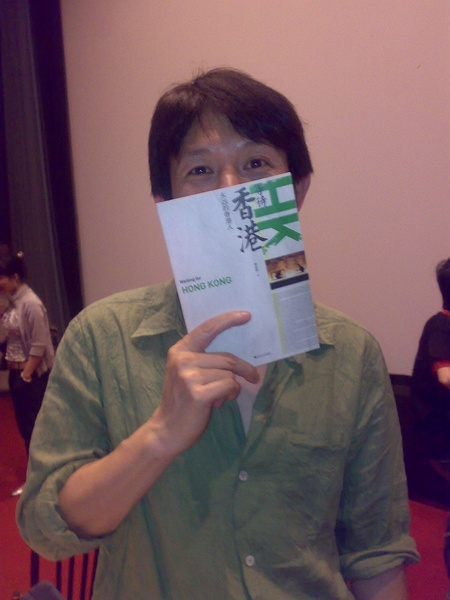face: (168, 101, 291, 294)
